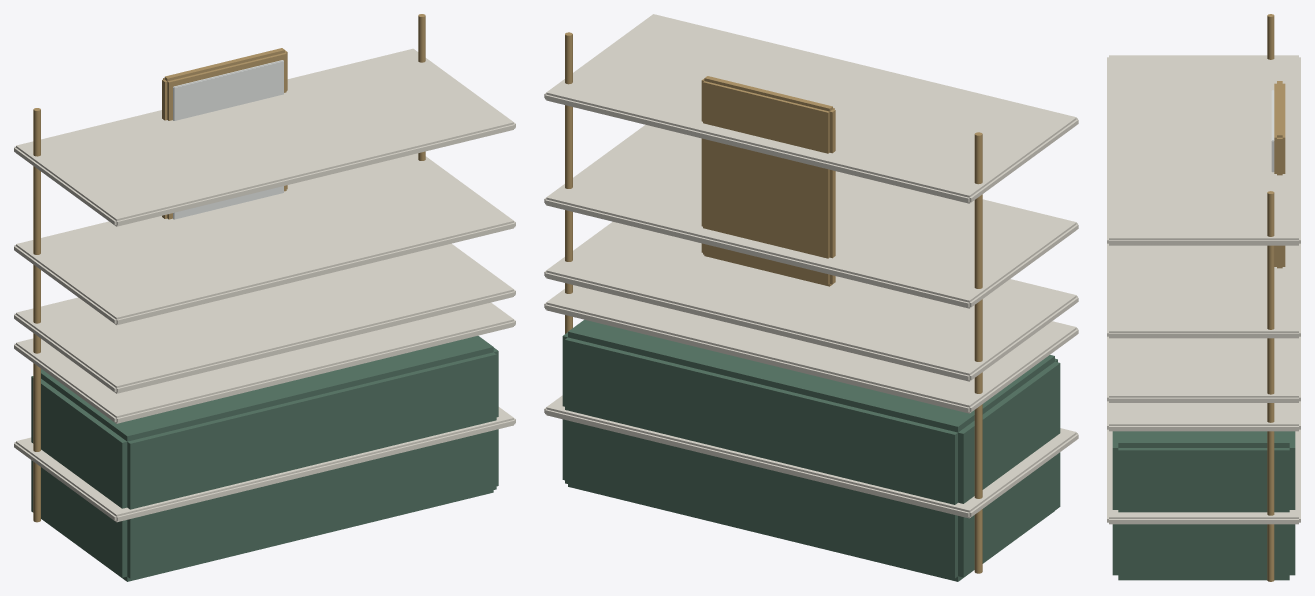
File: fixture_v25_beauty_tester.glb
3 renders of one model, left to right at view 1: azimuth 30°, elevation 25°; view 2: azimuth 150°, elevation 25°; view 3: azimuth 270°, elevation 25°, orthographic. The views are drawn at different scales.
Visible parts, largest first — view 1: fixture_v25_beauty_tester_V25_satin_ivory, fixture_v25_beauty_tester_V25_cafe_sage, fixture_v25_beauty_tester_Satin_champagne, fixture_v25_beauty_tester_V25_mirror_polished; view 2: fixture_v25_beauty_tester_V25_satin_ivory, fixture_v25_beauty_tester_V25_cafe_sage, fixture_v25_beauty_tester_Satin_champagne; view 3: fixture_v25_beauty_tester_V25_satin_ivory, fixture_v25_beauty_tester_V25_cafe_sage, fixture_v25_beauty_tester_Satin_champagne, fixture_v25_beauty_tester_V25_mirror_polished.
Part boxes in pixels (<box>): fixture_v25_beauty_tester_V25_satin_ivory: <box>14,48,515,522</box>; fixture_v25_beauty_tester_V25_cafe_sage: <box>31,336,498,581</box>; fixture_v25_beauty_tester_Satin_champagne: <box>33,14,425,522</box>; fixture_v25_beauty_tester_V25_mirror_polished: <box>173,60,283,219</box>; fixture_v25_beauty_tester_V25_satin_ivory: <box>544,14,1078,518</box>; fixture_v25_beauty_tester_V25_cafe_sage: <box>562,319,1060,581</box>; fixture_v25_beauty_tester_Satin_champagne: <box>565,32,982,573</box>; fixture_v25_beauty_tester_V25_satin_ivory: <box>1107,55,1300,524</box>; fixture_v25_beauty_tester_V25_cafe_sage: <box>1112,431,1295,580</box>; fixture_v25_beauty_tester_Satin_champagne: <box>1267,14,1285,581</box>; fixture_v25_beauty_tester_V25_mirror_polished: <box>1271,90,1274,172</box>.
Bounding box in the file's own units: 1.96 × 1.94 × 0.87.
